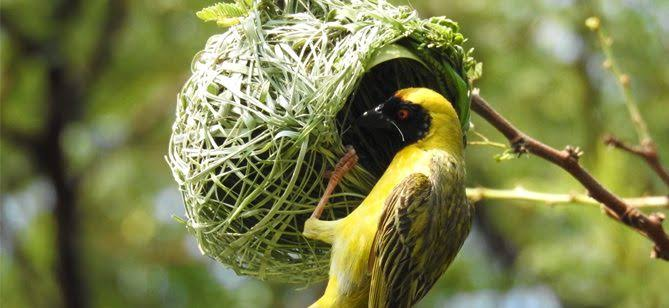target: (281, 80, 480, 308)
